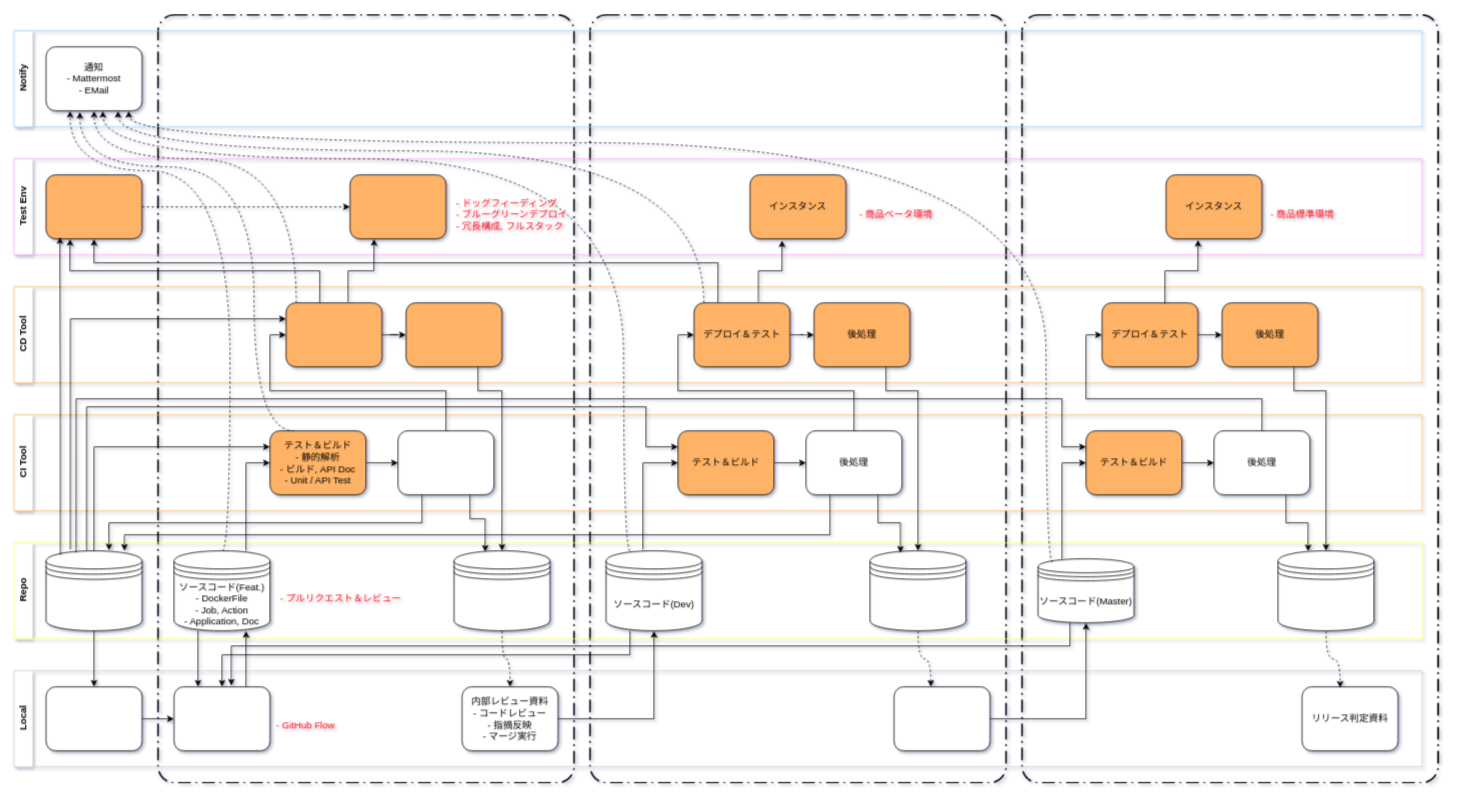
Some shapes in this 1458 by 802 pixel diagram are drawn without their labels. Each missing label, with the centre of its shape:
"インスタンス - Docker, EC2 - チーム共用ツール - E2E テスト環境" belongs at (x=397, y=206).
"ソースコード(Feat.) - DockerFile - Application - Document" belongs at (x=221, y=718).
"ダッシュボード - コンテナ / EC2 - ログ集約 - 品質, レポート - 異常検知" belongs at (x=93, y=206).
"デプロイ＆テスト - インフラ確保 - デプロイ - E2E / Security Test" belongs at (x=333, y=334).
"中間レビュー資料" belongs at (x=941, y=718).
"後処理 - アーカイブ - レポート - クオリティゲート - CD開始" belongs at (x=445, y=462).
"後処理 - レポート - クオリティゲート" belongs at (x=453, y=334).
"成果物(Dev)" belongs at (x=917, y=590).
"成果物(Feat.) - モジュール, Maven - レポート, API Doc" belongs at (x=501, y=590).
"成果物(Master)" belongs at (x=1325, y=590).
"環境テンプレ - DockerImage - AMI" belongs at (x=93, y=590).
"開発環境 - Docker, EC2 - Linux GUI - Eclipse, Tomcat" belongs at (x=93, y=718).
